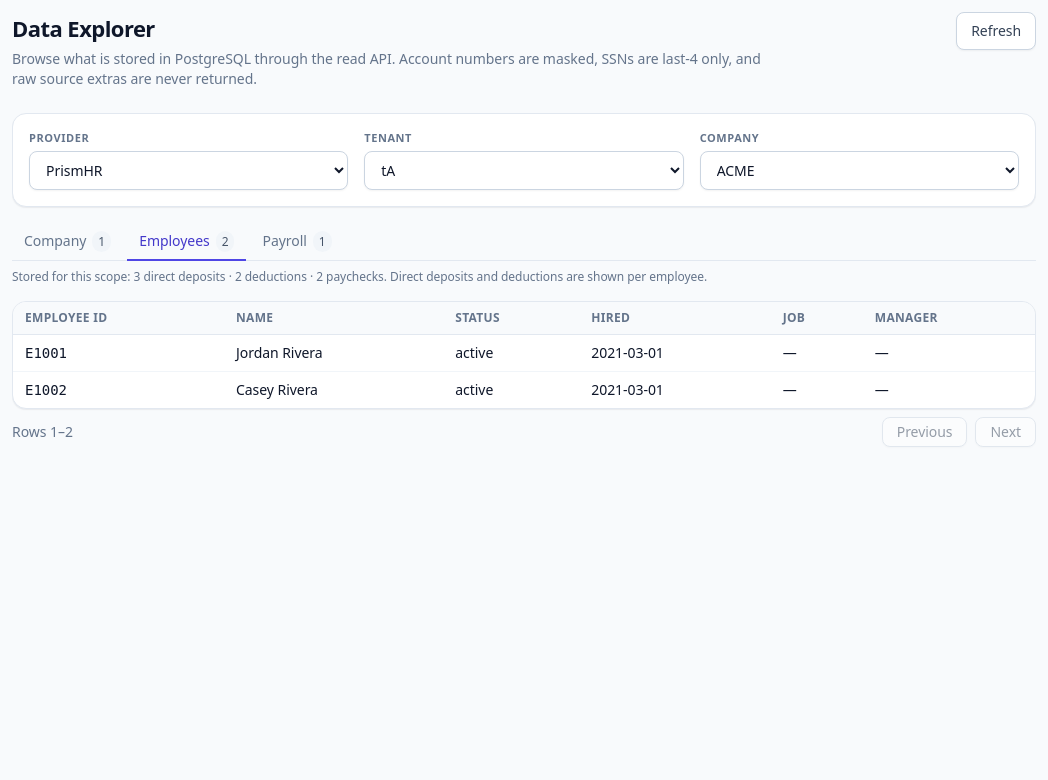
Test: Data Explorer › shows an employee’s details with masked bank data and no raw SSN or hash
This screenshot has width=1048, height=780.
Click the text "E1001".
click(46, 352)  # box [25,344,67,360]
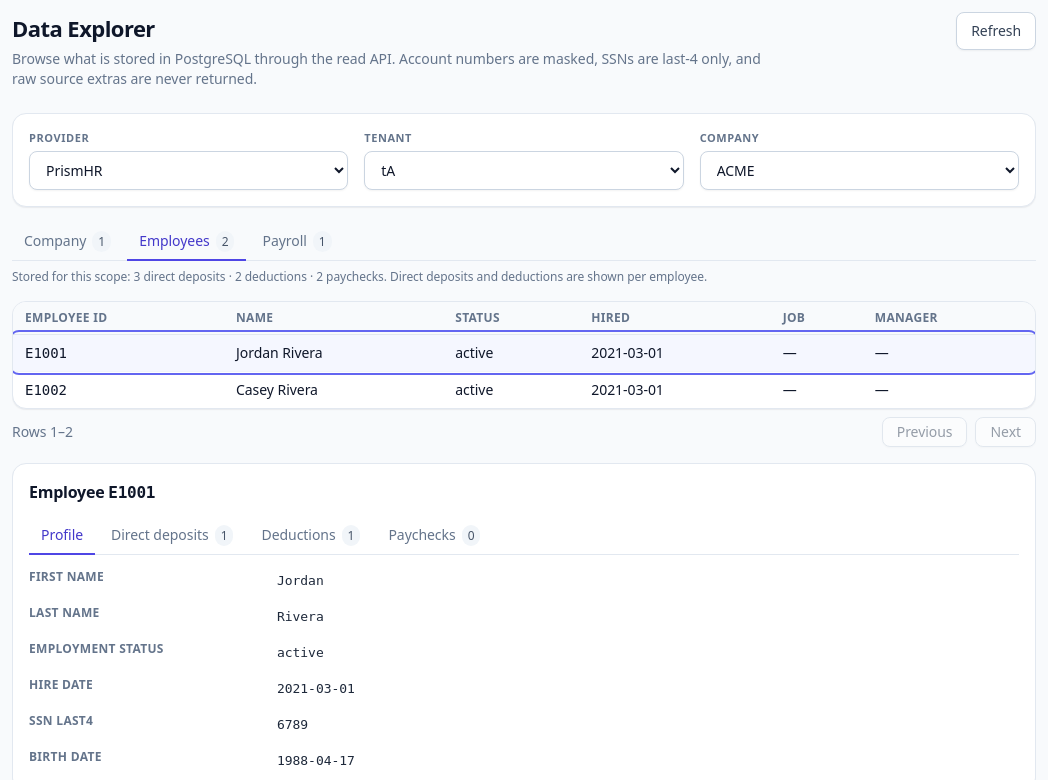
Result: the text "6789" is shown at [277,716,308,732]
Click the tab "Direct deposits1".
click(172, 536)  # box [99,516,245,554]
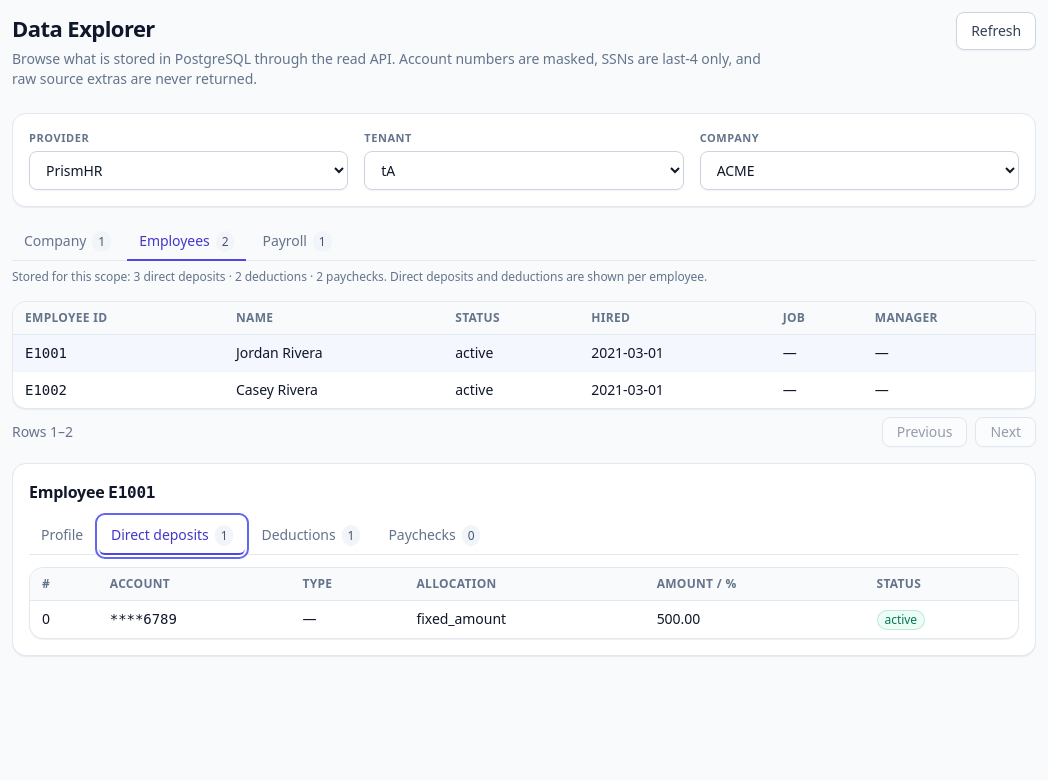
Result: the text "****6789" is shown at [110,610,177,626]
Click the tab "Deductions1".
click(311, 536)  # box [250,516,372,554]
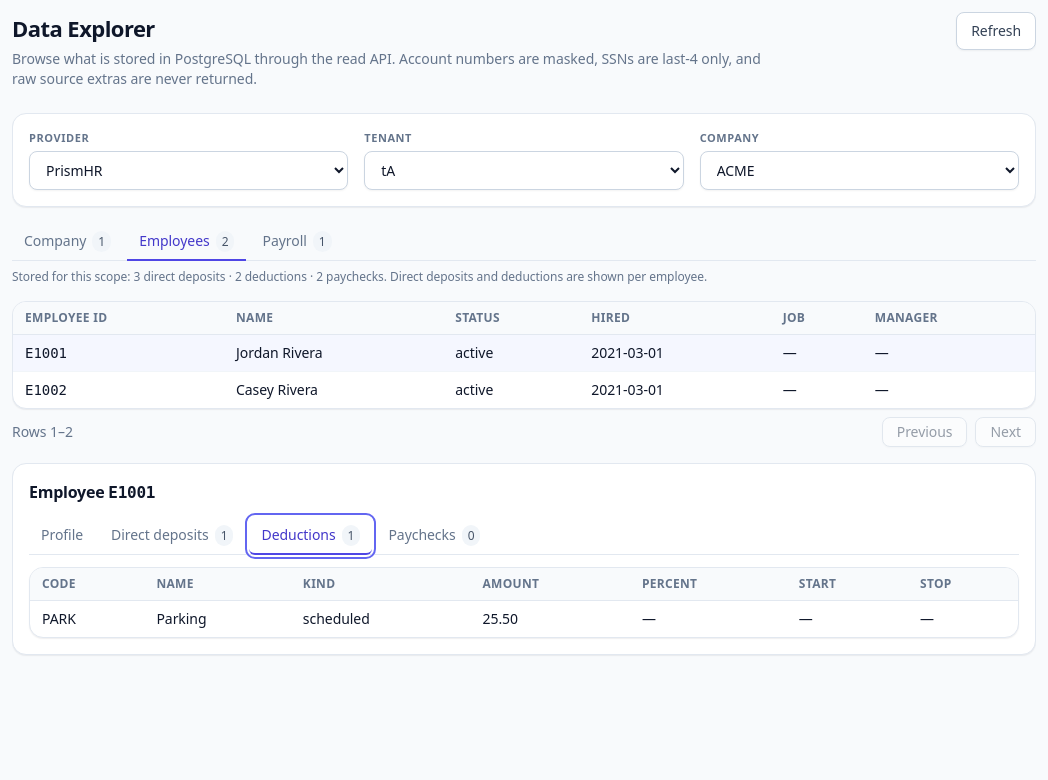
Result: the text "Parking" is shown at [144,600,291,636]
Click the tab "Paychecks0".
click(434, 536)  # box [376,516,492,554]
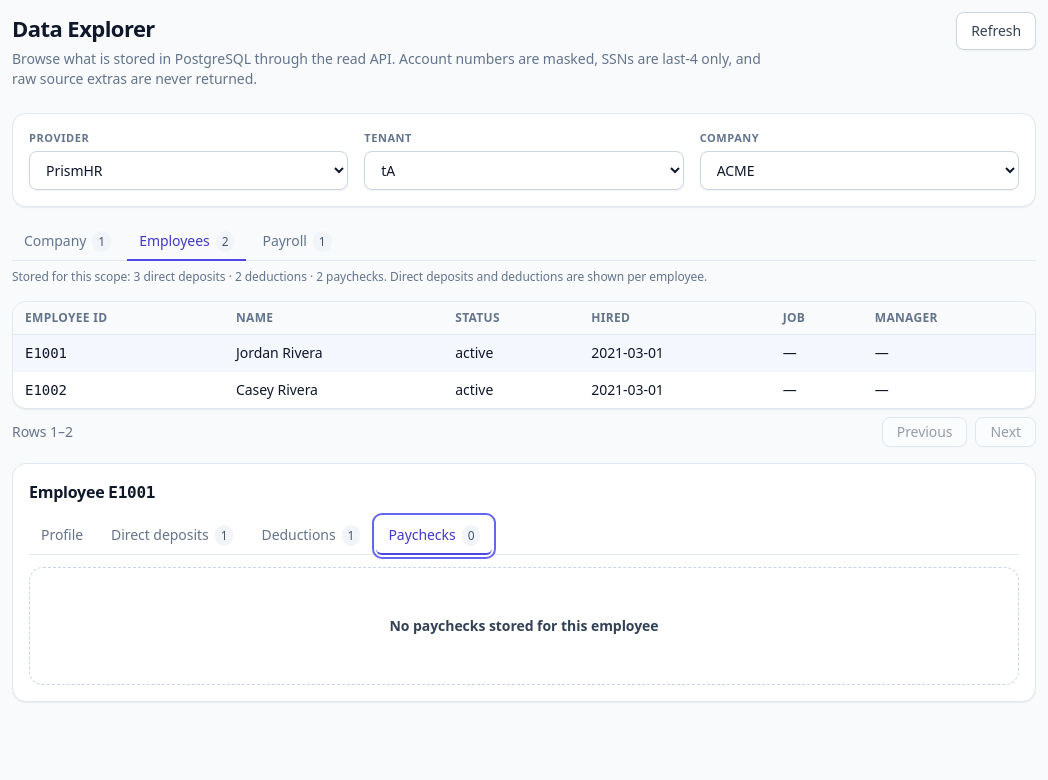
Result: the text "No paychecks stored for this employee" is shown at [389,616,659,636]
